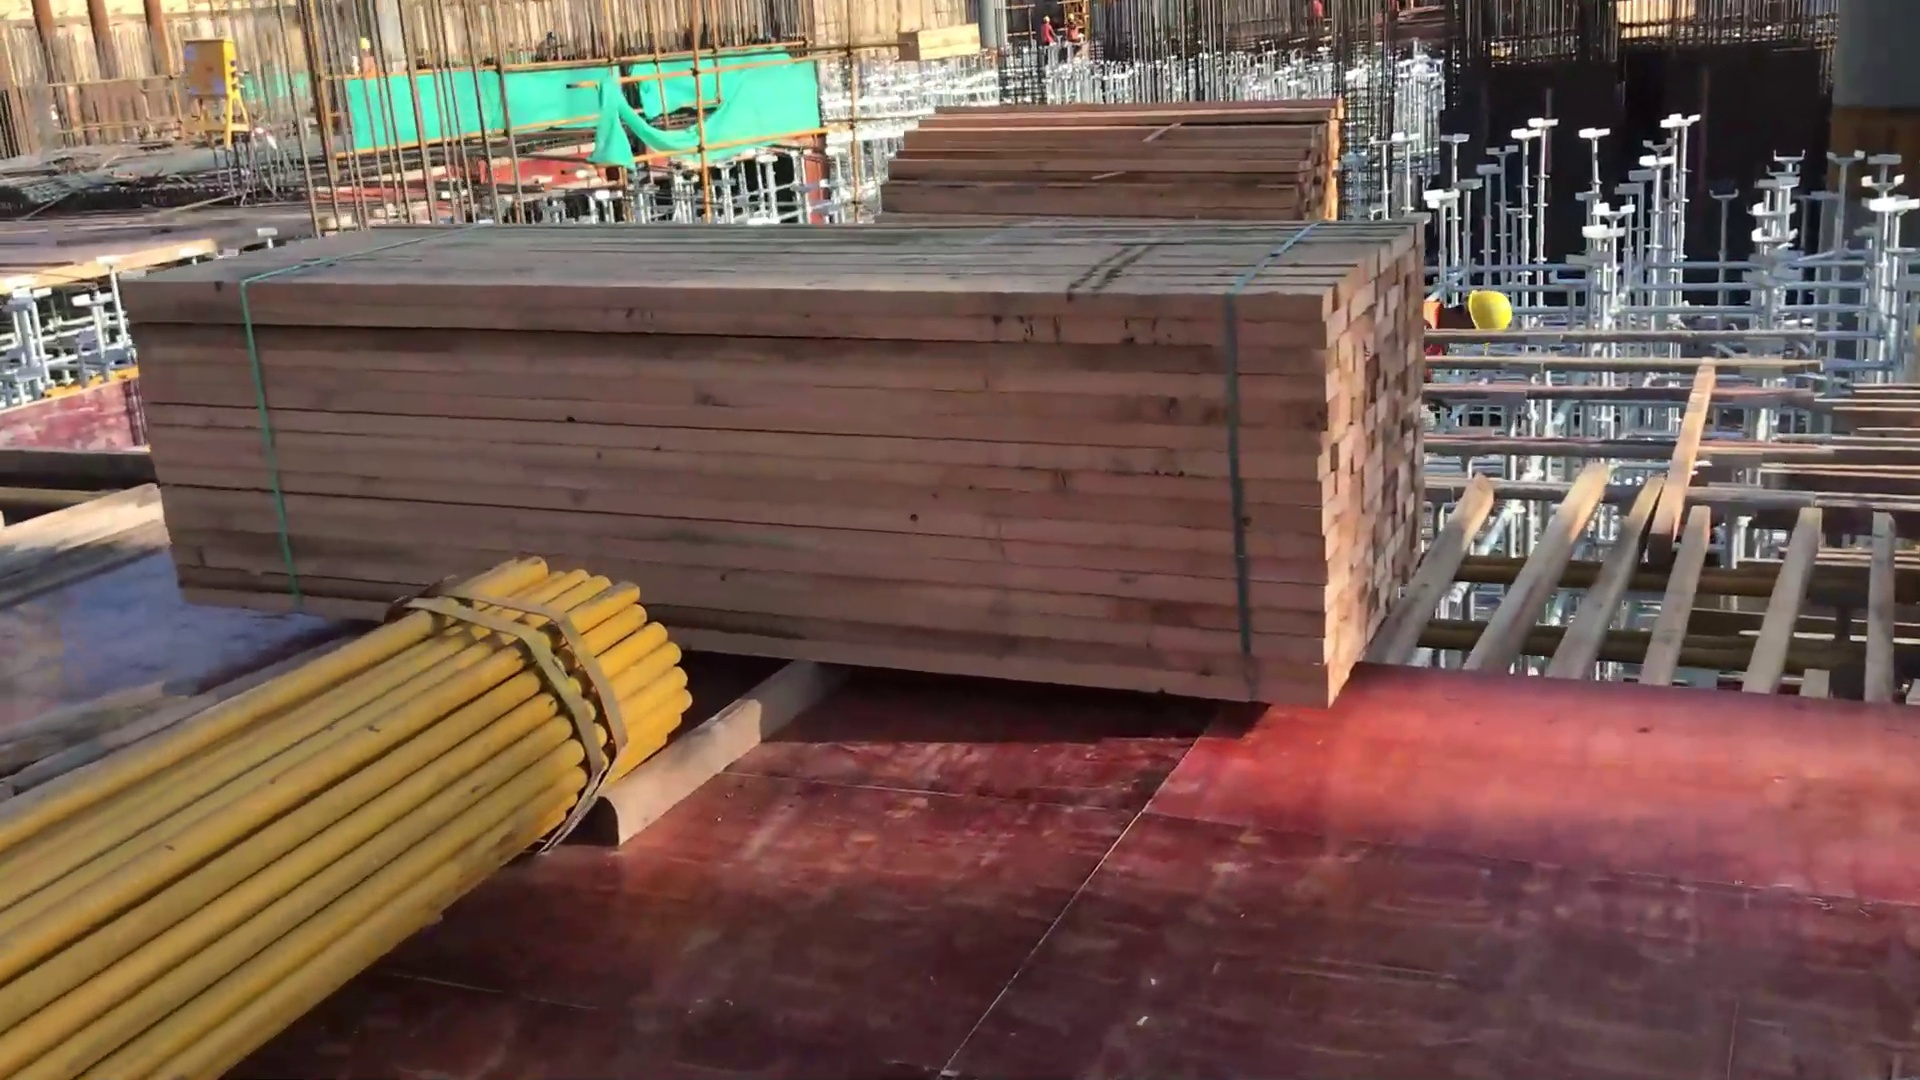ebox: (177, 37, 255, 157)
helmet: (1456, 280, 1515, 345)
vest: (351, 29, 378, 80), (1058, 15, 1081, 44), (1038, 18, 1062, 46)
wood: (136, 80, 1428, 673)
